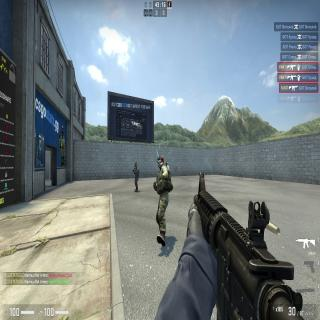CT-Body: (154, 156, 170, 250), (133, 160, 139, 192)
CT-Head: (158, 156, 164, 168), (134, 161, 136, 166)
